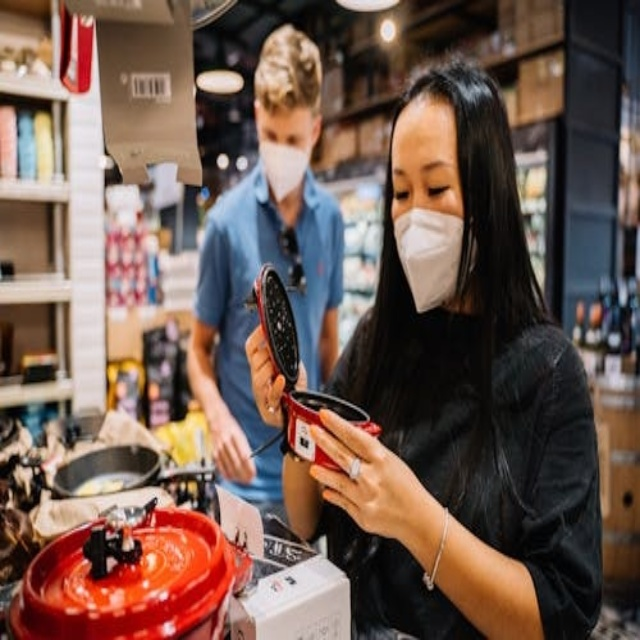Mascara: (392, 206, 471, 313), (260, 134, 312, 201)
Sin_gafas: (389, 152, 457, 198), (259, 111, 311, 152)
Sin_guantes: (304, 410, 421, 549), (245, 318, 302, 426), (211, 416, 257, 485)
